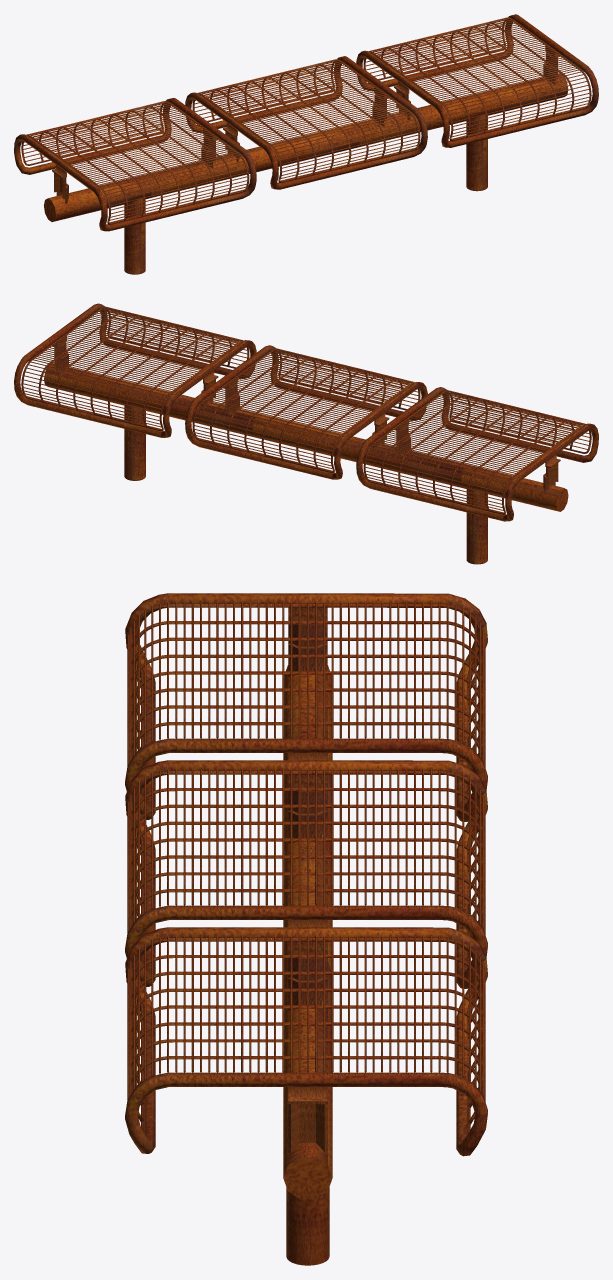
The picture shows the model from 3 angles, top to bottom: view 1: azimuth 30°, elevation 25°; view 2: azimuth 150°, elevation 25°; view 3: azimuth 270°, elevation 25°; orthographic projection. The views are drawn at different scales.
Visible parts, largest first — view 1: mesh1_mesh1-geometry, mesh9_mesh9-geometry, mesh19_mesh19-geometry, mesh6_mesh6-geometry, mesh16_mesh16-geometry, mesh7_mesh7-geometry, mesh4_mesh4-geometry, mesh12_mesh12-geometry, mesh14_mesh14-geometry, mesh10_mesh10-geometry; view 2: mesh1_mesh1-geometry, mesh9_mesh9-geometry, mesh19_mesh19-geometry, mesh6_mesh6-geometry, mesh16_mesh16-geometry, mesh7_mesh7-geometry, mesh4_mesh4-geometry, mesh12_mesh12-geometry, mesh14_mesh14-geometry, mesh10_mesh10-geometry; view 3: mesh1_mesh1-geometry, mesh9_mesh9-geometry, mesh6_mesh6-geometry, mesh19_mesh19-geometry, mesh7_mesh7-geometry, mesh12_mesh12-geometry, mesh16_mesh16-geometry, mesh10_mesh10-geometry, mesh14_mesh14-geometry.
Part boxes in pixels (x1,y1,x2,y2): mesh1_mesh1-geometry: (23,17,591,223); mesh9_mesh9-geometry: (14,14,598,231); mesh19_mesh19-geometry: (44,73,568,221); mesh6_mesh6-geometry: (39,22,574,220); mesh16_mesh16-geometry: (124,114,487,274); mesh7_mesh7-geometry: (21,52,518,224); mesh4_mesh4-geometry: (95,18,591,208); mesh12_mesh12-geometry: (54,52,557,198); mesh14_mesh14-geometry: (56,62,555,203); mesh10_mesh10-geometry: (52,46,558,178); mesh1_mesh1-geometry: (21,306,589,513); mesh9_mesh9-geometry: (14,303,598,521); mesh19_mesh19-geometry: (44,363,568,511); mesh6_mesh6-geometry: (38,311,574,510); mesh16_mesh16-geometry: (124,404,487,564); mesh7_mesh7-geometry: (94,341,591,514); mesh4_mesh4-geometry: (21,307,517,498); mesh12_mesh12-geometry: (54,342,558,488); mesh14_mesh14-geometry: (56,352,555,493); mesh10_mesh10-geometry: (53,336,560,467); mesh1_mesh1-geometry: (127,602,485,1101); mesh9_mesh9-geometry: (125,593,487,1156); mesh6_mesh6-geometry: (131,621,482,1124); mesh19_mesh19-geometry: (283,665,332,1199); mesh7_mesh7-geometry: (131,604,482,1071); mesh12_mesh12-geometry: (288,624,327,1144); mesh16_mesh16-geometry: (286,1187,329,1265); mesh10_mesh10-geometry: (288,607,327,1104); mesh14_mesh14-geometry: (288,643,327,1152).
Size of the model in its own units: 0.9322 by 0.2217 by 0.2861.
